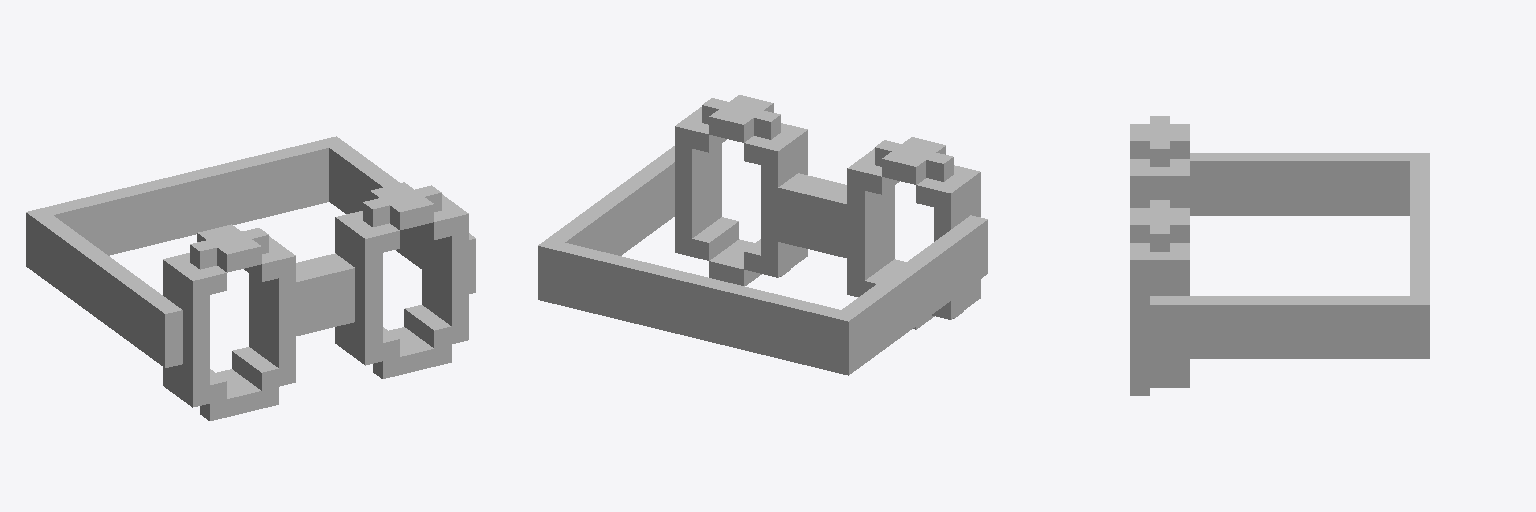
File: Lentes2.obj
3 views of the same model, side by side, from view 1: azimuth 30°, elevation 25°; view 2: azimuth 150°, elevation 25°; view 3: azimuth 270°, elevation 25° (orthographic).
Parts seen in each view (by area): view 1: Untitled.002; view 2: Untitled.002; view 3: Untitled.002.
Part boxes in pixels (x1,y1,x2,y2): Untitled.002: (26, 136, 475, 420); Untitled.002: (538, 95, 987, 375); Untitled.002: (1130, 116, 1429, 395).
Bounding box in the file's own units: 1.8 × 0.9 × 1.5.